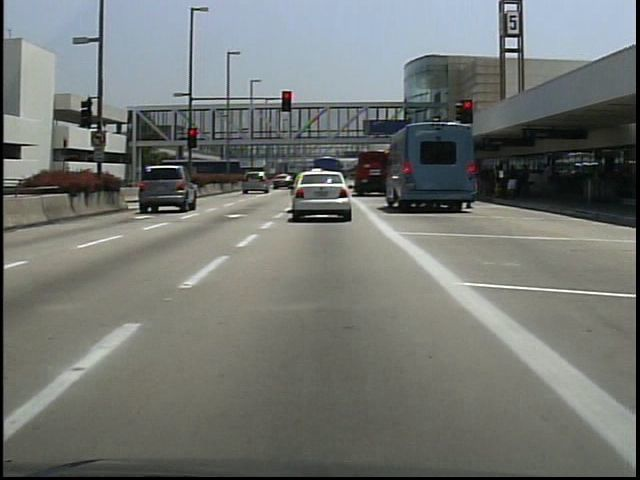person: (504, 164, 518, 204)
